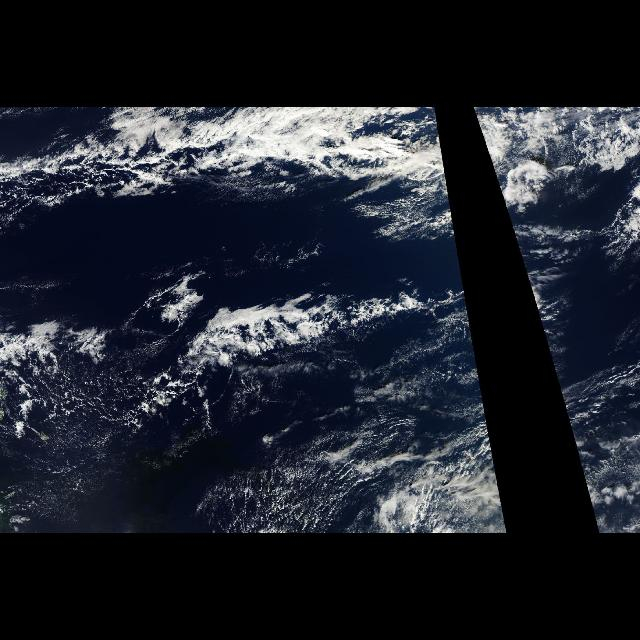Fish: (9, 256, 498, 464), (522, 256, 586, 464)
